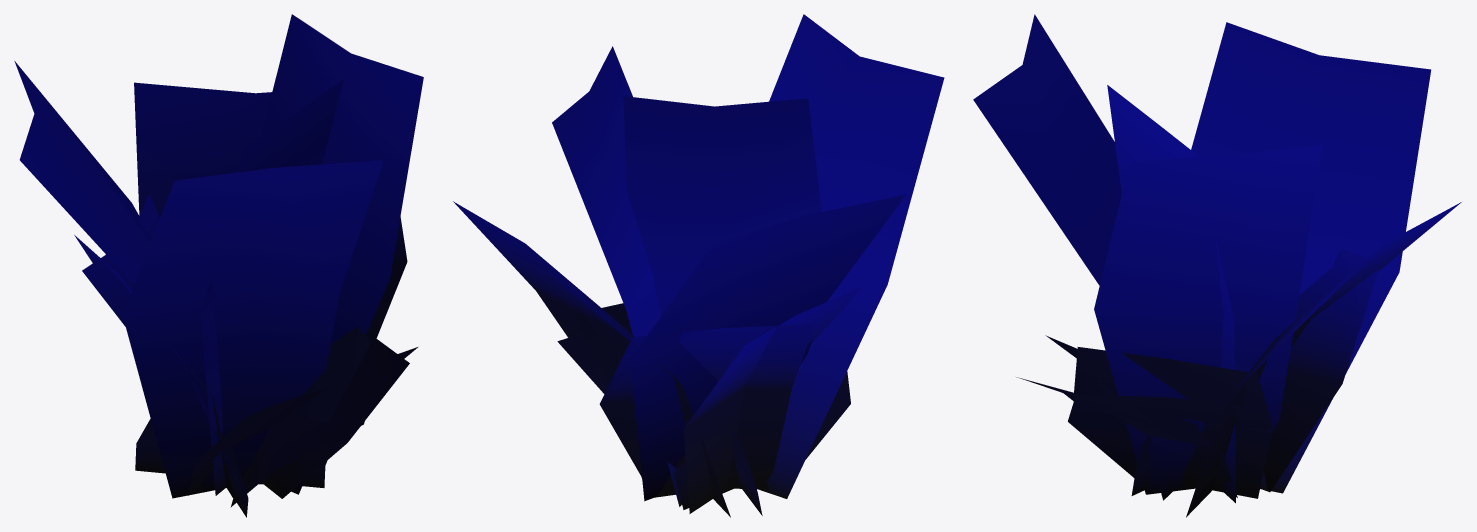
The model's file is SM_Grass_M_S_05.fbx.
3 renders of one model, left to right at view 1: azimuth 30°, elevation 25°; view 2: azimuth 150°, elevation 25°; view 3: azimuth 270°, elevation 25°, orthographic. The views are drawn at different scales.
Visible parts, largest first — view 1: SM_Grass_M_S_05; view 2: SM_Grass_M_S_05; view 3: SM_Grass_M_S_05.
Boxes of the visible parts, x1=… form: SM_Grass_M_S_05: x1=14, y1=14, x2=423, y2=517; SM_Grass_M_S_05: x1=453, y1=14, x2=944, y2=517; SM_Grass_M_S_05: x1=973, y1=14, x2=1461, y2=517.
Size of the model in its own units: 113 by 116 by 103.
